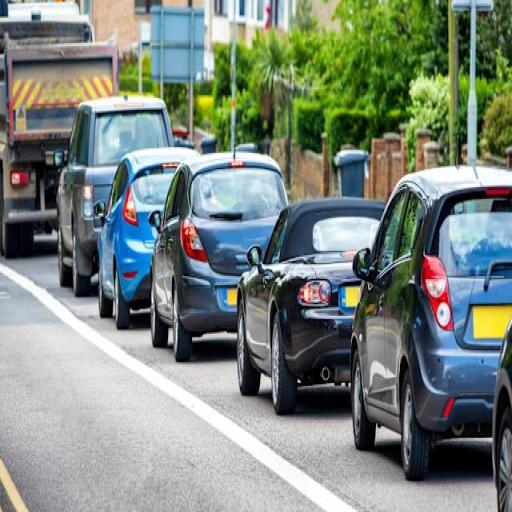car: (349, 162, 511, 481), (236, 194, 394, 414), (149, 149, 289, 362), (54, 92, 176, 297), (96, 146, 201, 330)
truck: (0, 0, 119, 258)
